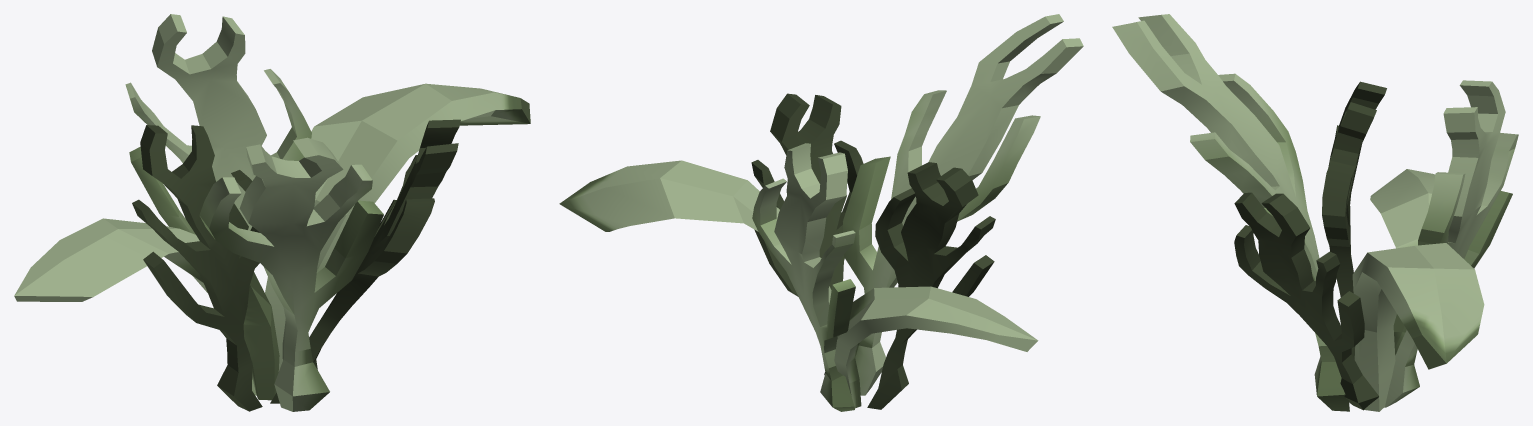
The model's file is EA_Swamp_Leaf_01a.glb.
The picture shows the model from 3 angles, left to right: view 1: azimuth 30°, elevation 25°; view 2: azimuth 150°, elevation 25°; view 3: azimuth 270°, elevation 25°; orthographic projection. The views are drawn at different scales.
Visible parts, largest first — view 1: EA_Swamp_Leaf_01a; view 2: EA_Swamp_Leaf_01a; view 3: EA_Swamp_Leaf_01a.
Boxes of the visible parts, x1,y1,x2,y2 form: EA_Swamp_Leaf_01a: (14,14,530,411); EA_Swamp_Leaf_01a: (559,14,1083,411); EA_Swamp_Leaf_01a: (1112,14,1518,411).
Bounding box in the file's own units: 3.19 × 2.16 × 2.33.
1 material, 1 textured.
